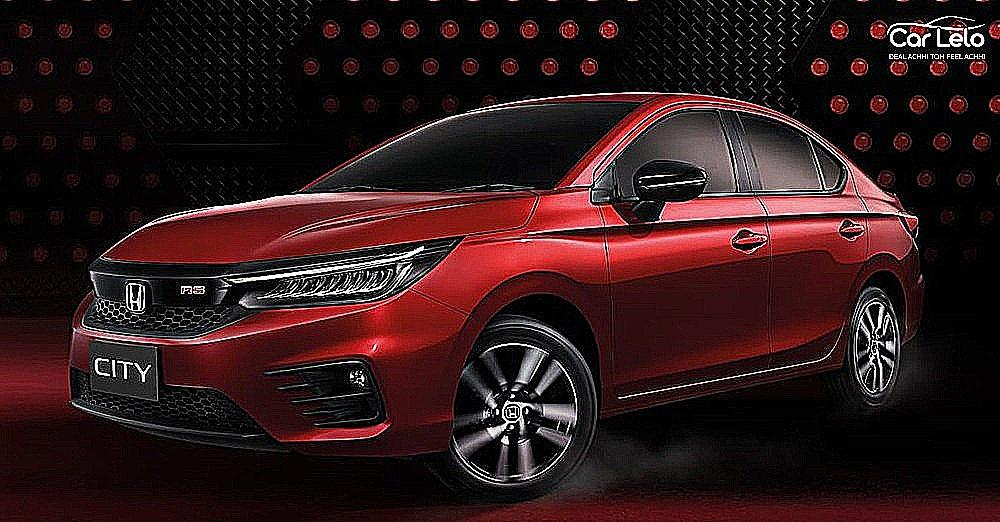Car hood: (92, 181, 541, 270)
Fender - -F-L-: (406, 180, 615, 417)
Fender - -R-L-: (838, 196, 915, 368)
Front bumper: (55, 297, 474, 468)
Headlight - -L-: (222, 233, 466, 317)
Passenger-s door - -F-L-: (614, 99, 770, 406)
Passenger-s door - -R-L-: (770, 108, 876, 376)
Rear bumper: (896, 270, 939, 348)
Rear light - -L-: (889, 192, 927, 243)
Side bumper - -L-: (590, 330, 855, 423)
Side mirror - -L-: (620, 152, 712, 227)
